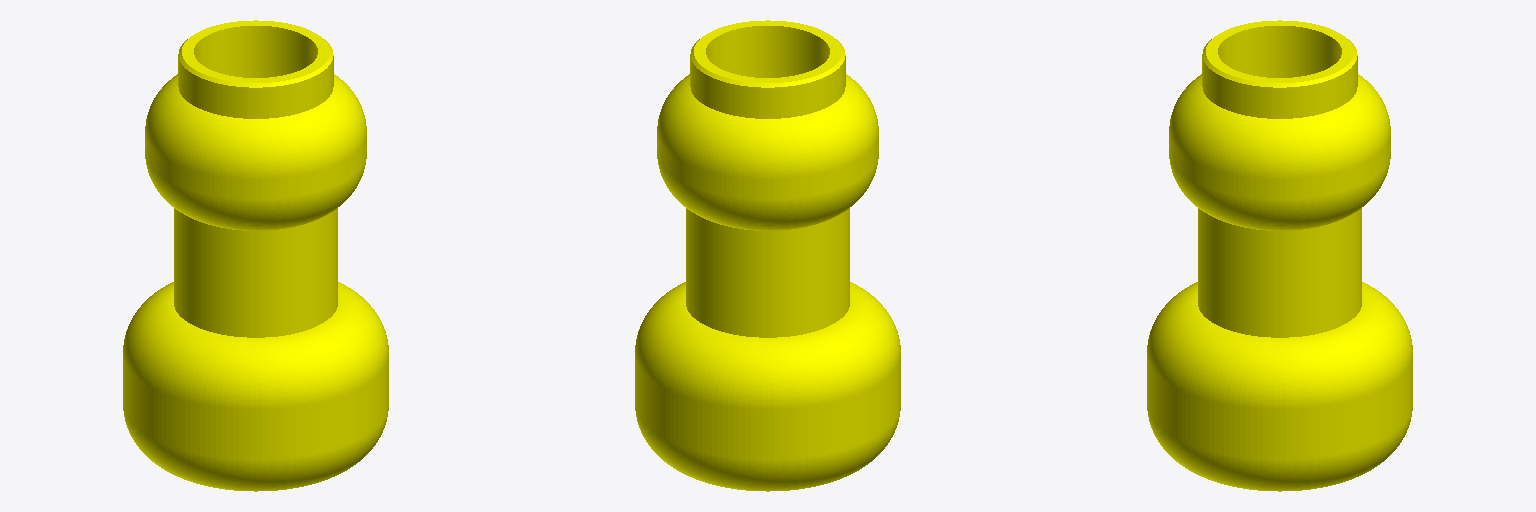
The robot description file, URDF, robot "bottle":
<?xml version="1.0" ?>
<robot name="bottle">
  <link name="bottle">

    <inertial>
      <origin rpy="0 0 0" xyz="0 0 0"/>
       <mass value="0.2"/>
       <inertia ixx="0.005" ixy="0.0" ixz="0.0" iyy="0.005" iyz="0.0" izz="0.002"/>
    </inertial>
    <visual>
      <origin rpy="0 0 0" xyz="0 0 0"/>
      <geometry>
        <mesh filename="package://objects/meshes/gourd_bottle.obj" scale="1 1 1"/>
      </geometry>
      <material name="white">
        <color rgba="1.0 1.0 0.0 0.0"/>
      </material>
    </visual>
    <collision>
      <origin rpy="0 0 0" xyz="0 0 0"/>
      <geometry>
        <mesh filename="package://objects/meshes/gourd_bottle.obj" scale="1 1 1"/>
      </geometry>
    </collision>
  </link>
</robot>

--- Facts derived from the render (not from the file) ---
3 views of the same robot in one strip: view 1: azimuth 30°, elevation 25°; view 2: azimuth 150°, elevation 25°; view 3: azimuth 270°, elevation 25° (orthographic).
Model bottle with 1 links and 0 joints (none), rooted at bottle, posed every joint at zero.
Visible links, largest first — view 1: bottle; view 2: bottle; view 3: bottle.
Link boxes in pixels (x1,y1,x2,y2): bottle: (123,20,388,491); bottle: (635,20,900,491); bottle: (1147,20,1412,491).
Bounding box of the posed robot: 0.12 × 0.12 × 0.2 m (x, y, z).
Meshes: 1 distinct files referenced, 1 mesh visuals loaded (1 OBJ).